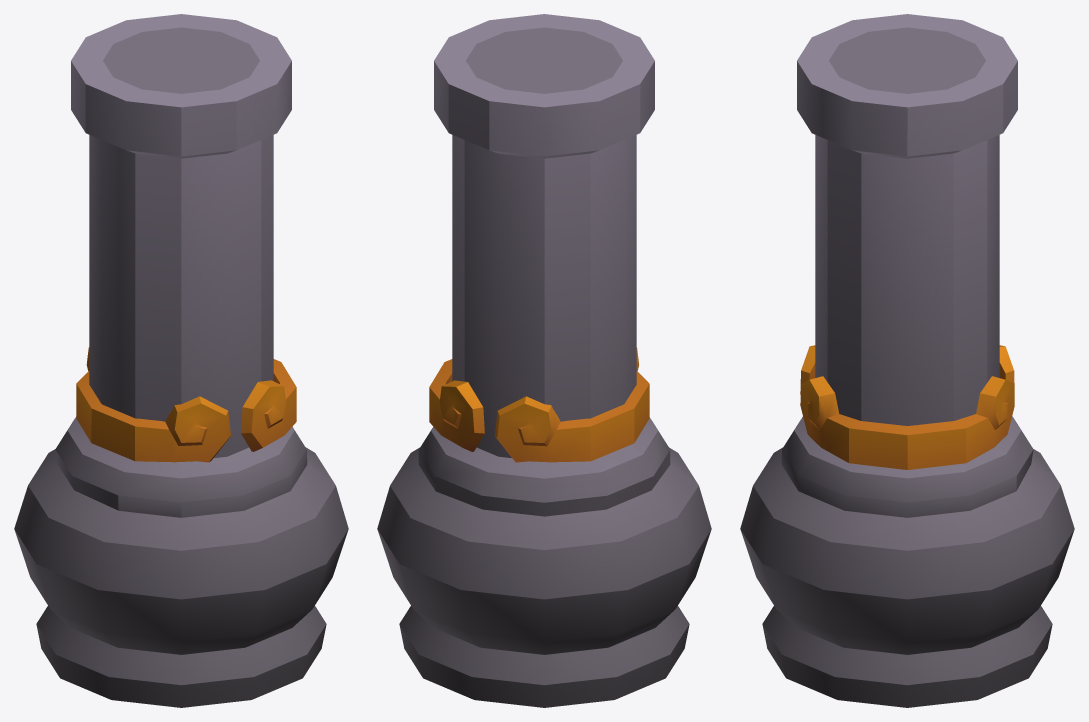
File: pillar_2.glb
3 views of the same model, side by side, from view 1: azimuth 30°, elevation 25°; view 2: azimuth 150°, elevation 25°; view 3: azimuth 270°, elevation 25° (orthographic).
Parts seen in each view (by area): view 1: pillar_2; view 2: pillar_2; view 3: pillar_2.
Part boxes in pixels (box(x1,y1,x2,y2)): pillar_2: box(14, 14, 348, 707); pillar_2: box(377, 14, 711, 707); pillar_2: box(740, 14, 1074, 707).
Size of the model in its own units: 1.11 by 2.15 by 1.11.
Materials: 1 (1 with a texture image).
